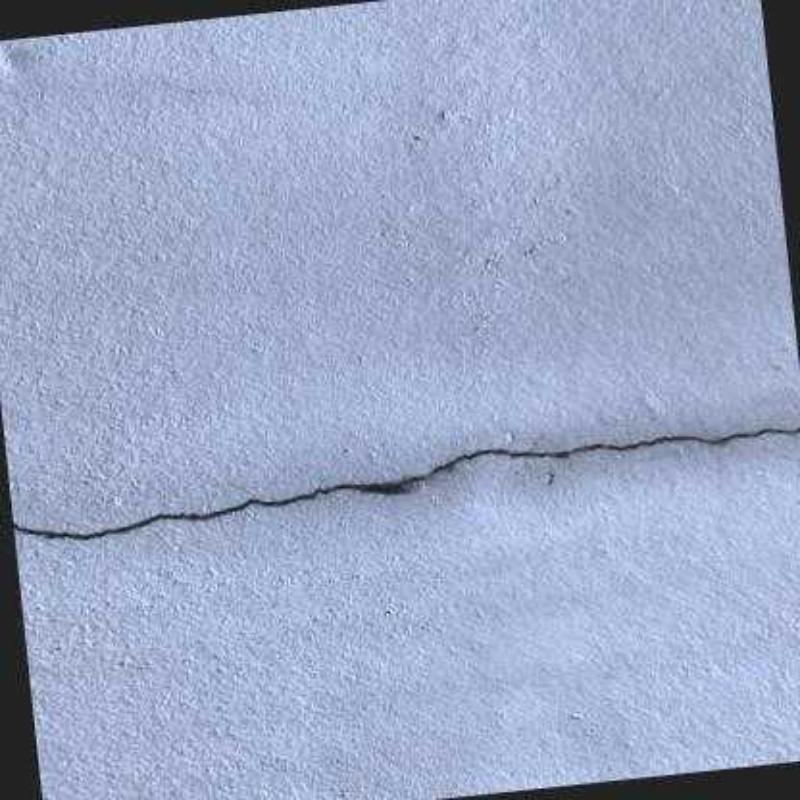pothole: (11, 427, 798, 542)
